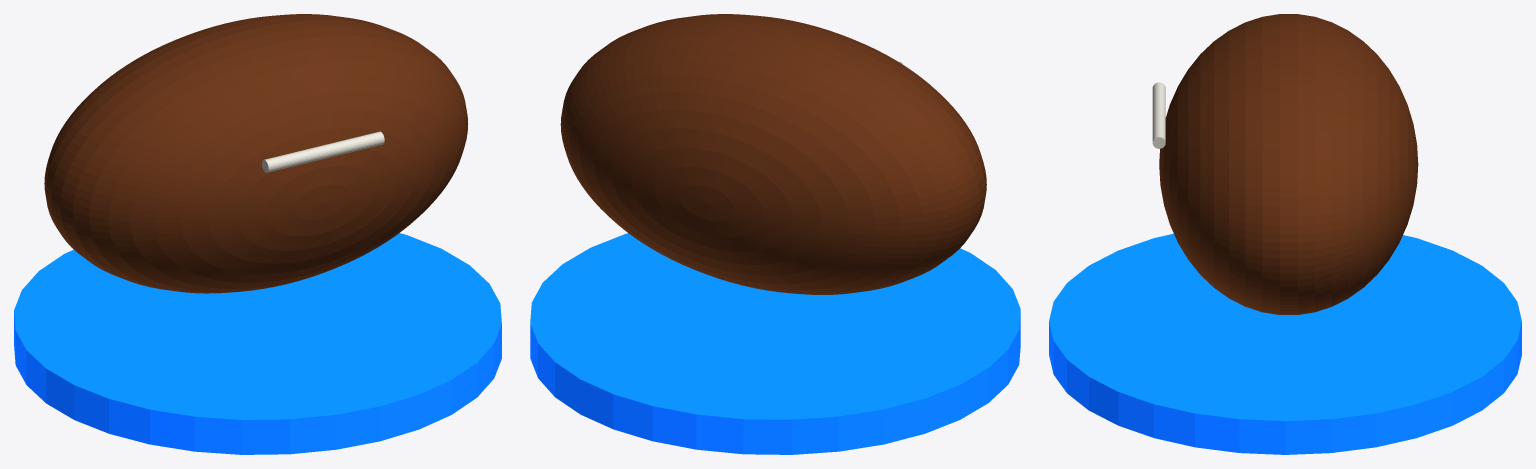
The model's file is sports_football.dae.
3 views of the same model, side by side, from view 1: azimuth 30°, elevation 25°; view 2: azimuth 150°, elevation 25°; view 3: azimuth 270°, elevation 25° (orthographic). The views are drawn at different scales.
Visible parts, largest first — view 1: 04_03_Popular_Sports_Football_part_01, 04_03_Popular_Sports_Football_ROOT_base, 04_03_Popular_Sports_Football_part_02; view 2: 04_03_Popular_Sports_Football_part_01, 04_03_Popular_Sports_Football_ROOT_base; view 3: 04_03_Popular_Sports_Football_ROOT_base, 04_03_Popular_Sports_Football_part_01, 04_03_Popular_Sports_Football_part_02.
Boxes of the visible parts, x1,y1,x2,y2 form: 04_03_Popular_Sports_Football_part_01: (44, 14, 467, 293); 04_03_Popular_Sports_Football_ROOT_base: (14, 233, 501, 454); 04_03_Popular_Sports_Football_part_02: (262, 131, 384, 172); 04_03_Popular_Sports_Football_part_01: (560, 14, 986, 294); 04_03_Popular_Sports_Football_ROOT_base: (530, 233, 1020, 454); 04_03_Popular_Sports_Football_ROOT_base: (1049, 233, 1521, 454); 04_03_Popular_Sports_Football_part_01: (1159, 14, 1418, 314); 04_03_Popular_Sports_Football_part_02: (1152, 82, 1165, 148).
Bounding box in the file's own units: 0.76 × 0.5454 × 0.76.
